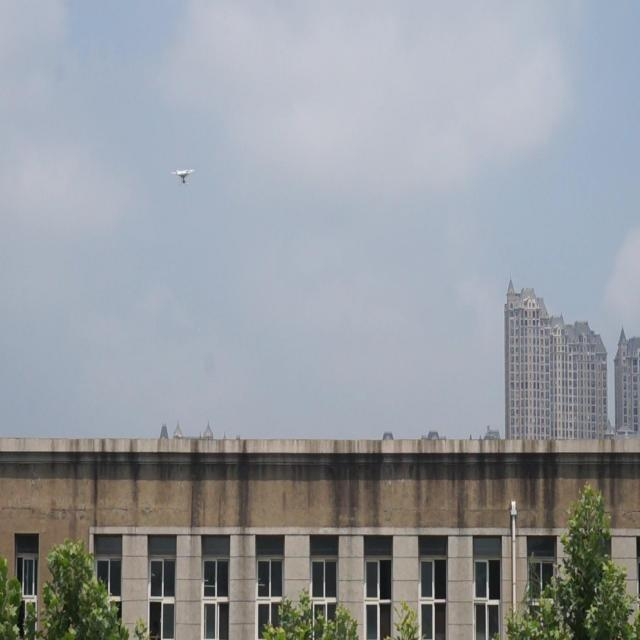UAV: (171, 169, 195, 185)
